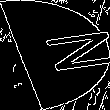N_W: (8, 30, 102, 80)
